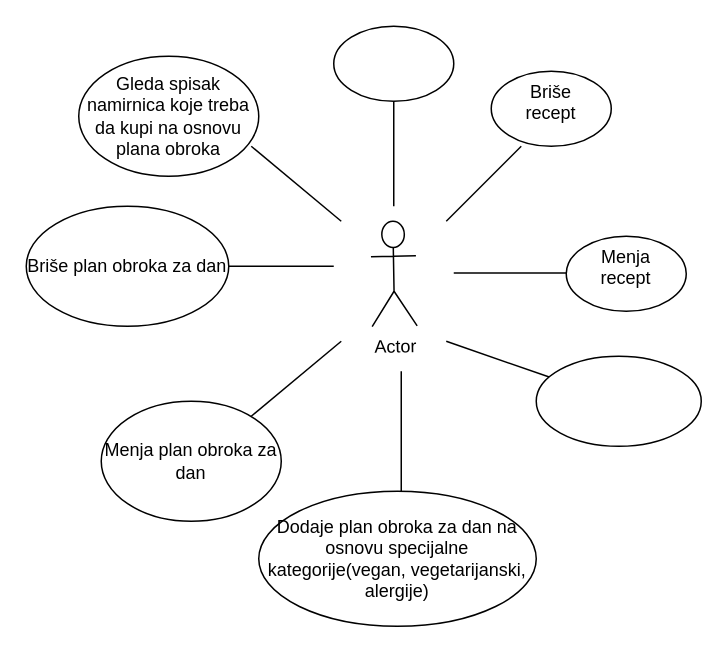
The diagram is 728 pixels wide and 653 high, and some of its shapes have lost their labels. Here are the shapes that lost their labels. From the top down, the box of each, then its label:
(332, 25, 454, 101): Dodaje recept
(535, 355, 701, 446): Dodaje plan obroka za dan
